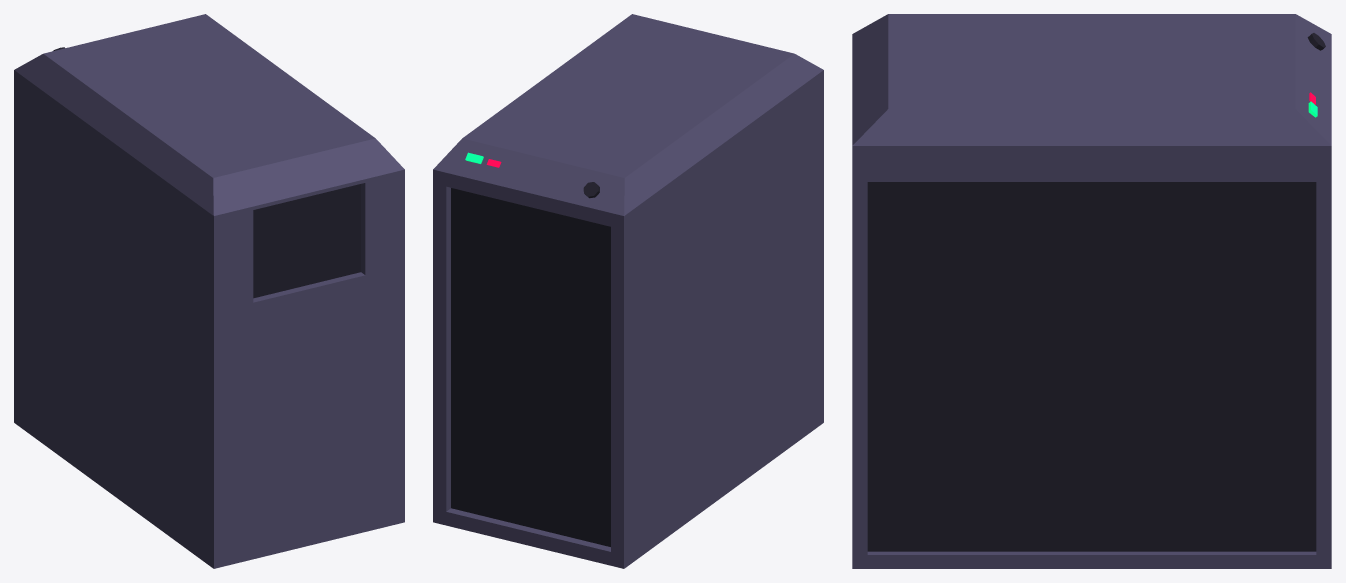
File: PC_Case.fbx
The picture shows the model from 3 angles, left to right: view 1: azimuth 30°, elevation 25°; view 2: azimuth 150°, elevation 25°; view 3: azimuth 270°, elevation 25°; orthographic projection. The views are drawn at different scales.
Parts seen in each view (by area): view 1: Computer; view 2: Computer; view 3: Computer.
Boxes of the visible parts, bbox=[...] form: Computer: bbox=[14, 14, 404, 568]; Computer: bbox=[433, 14, 823, 568]; Computer: bbox=[852, 14, 1331, 568].
Size of the model in its own units: 0.2699 by 0.5081 by 0.4887.
